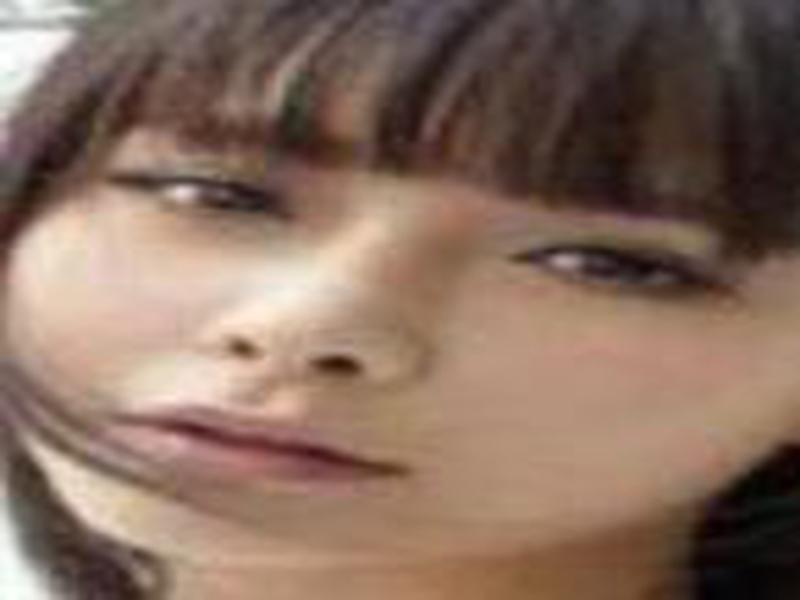without_mask: (12, 93, 800, 572)
